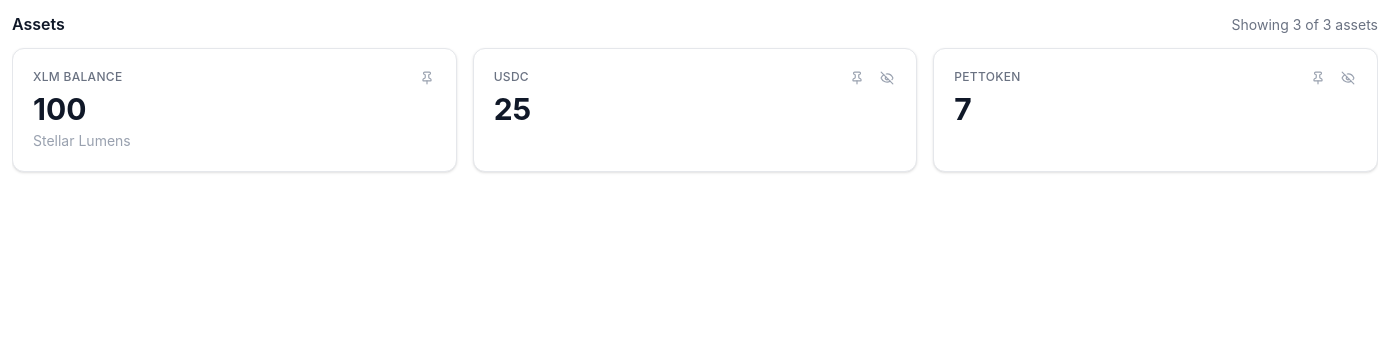
Test: WalletAssetList › hides an asset, keeps the total accurate and discloses it on demand
Click the button named "Hide USDC".
click(887, 78)  # box [874,65,900,91]
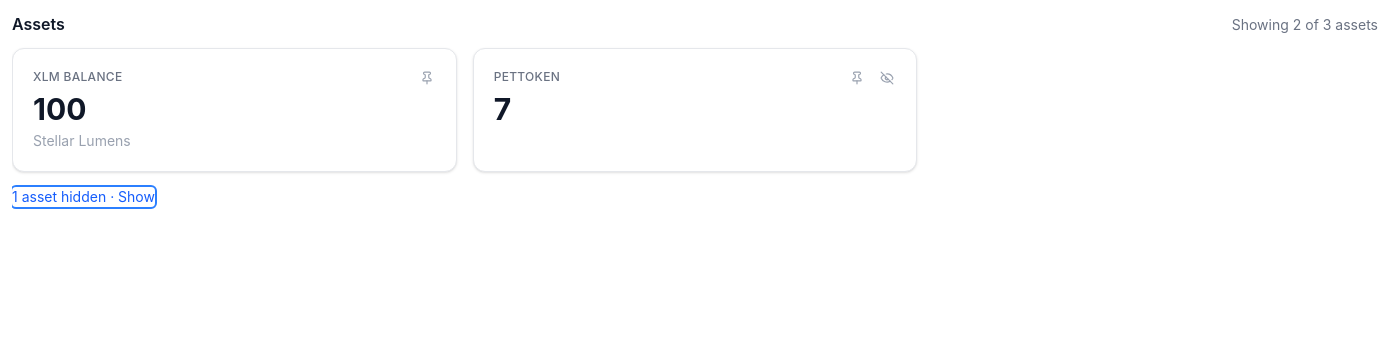
Check: the text "Showing 2 of 3 assets" is shown, box [1232,15,1378,35]
Click the button "1 asset hidden · Show".
click(84, 197)  # box [12,187,155,207]
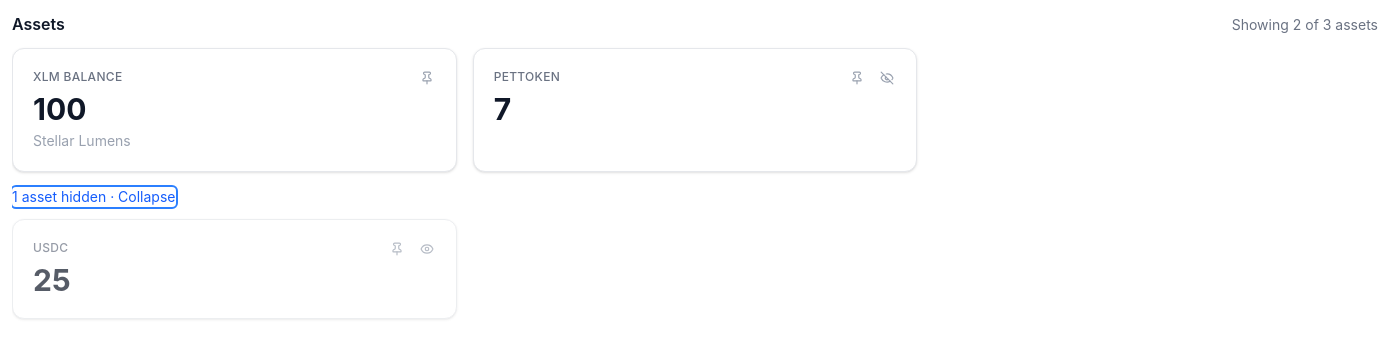
Check: the button named "1 asset hidden · Show" is expanded, box [12,187,176,207]
Check: the text "USDC" is shown, box [33,240,68,256]
Click the button named "Hide USDC".
click(427, 249)  # box [414,236,440,262]
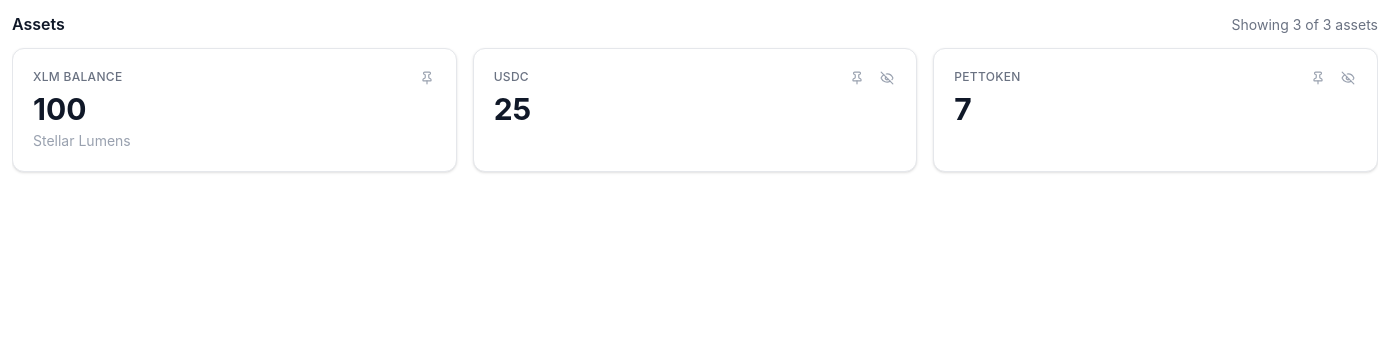
Check: the text "Showing 3 of 3 assets" is shown, box [1232,15,1378,35]
